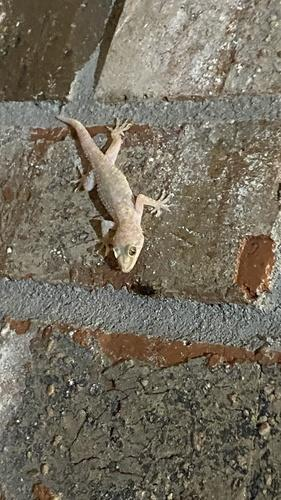lizard: (47, 107, 147, 287)
